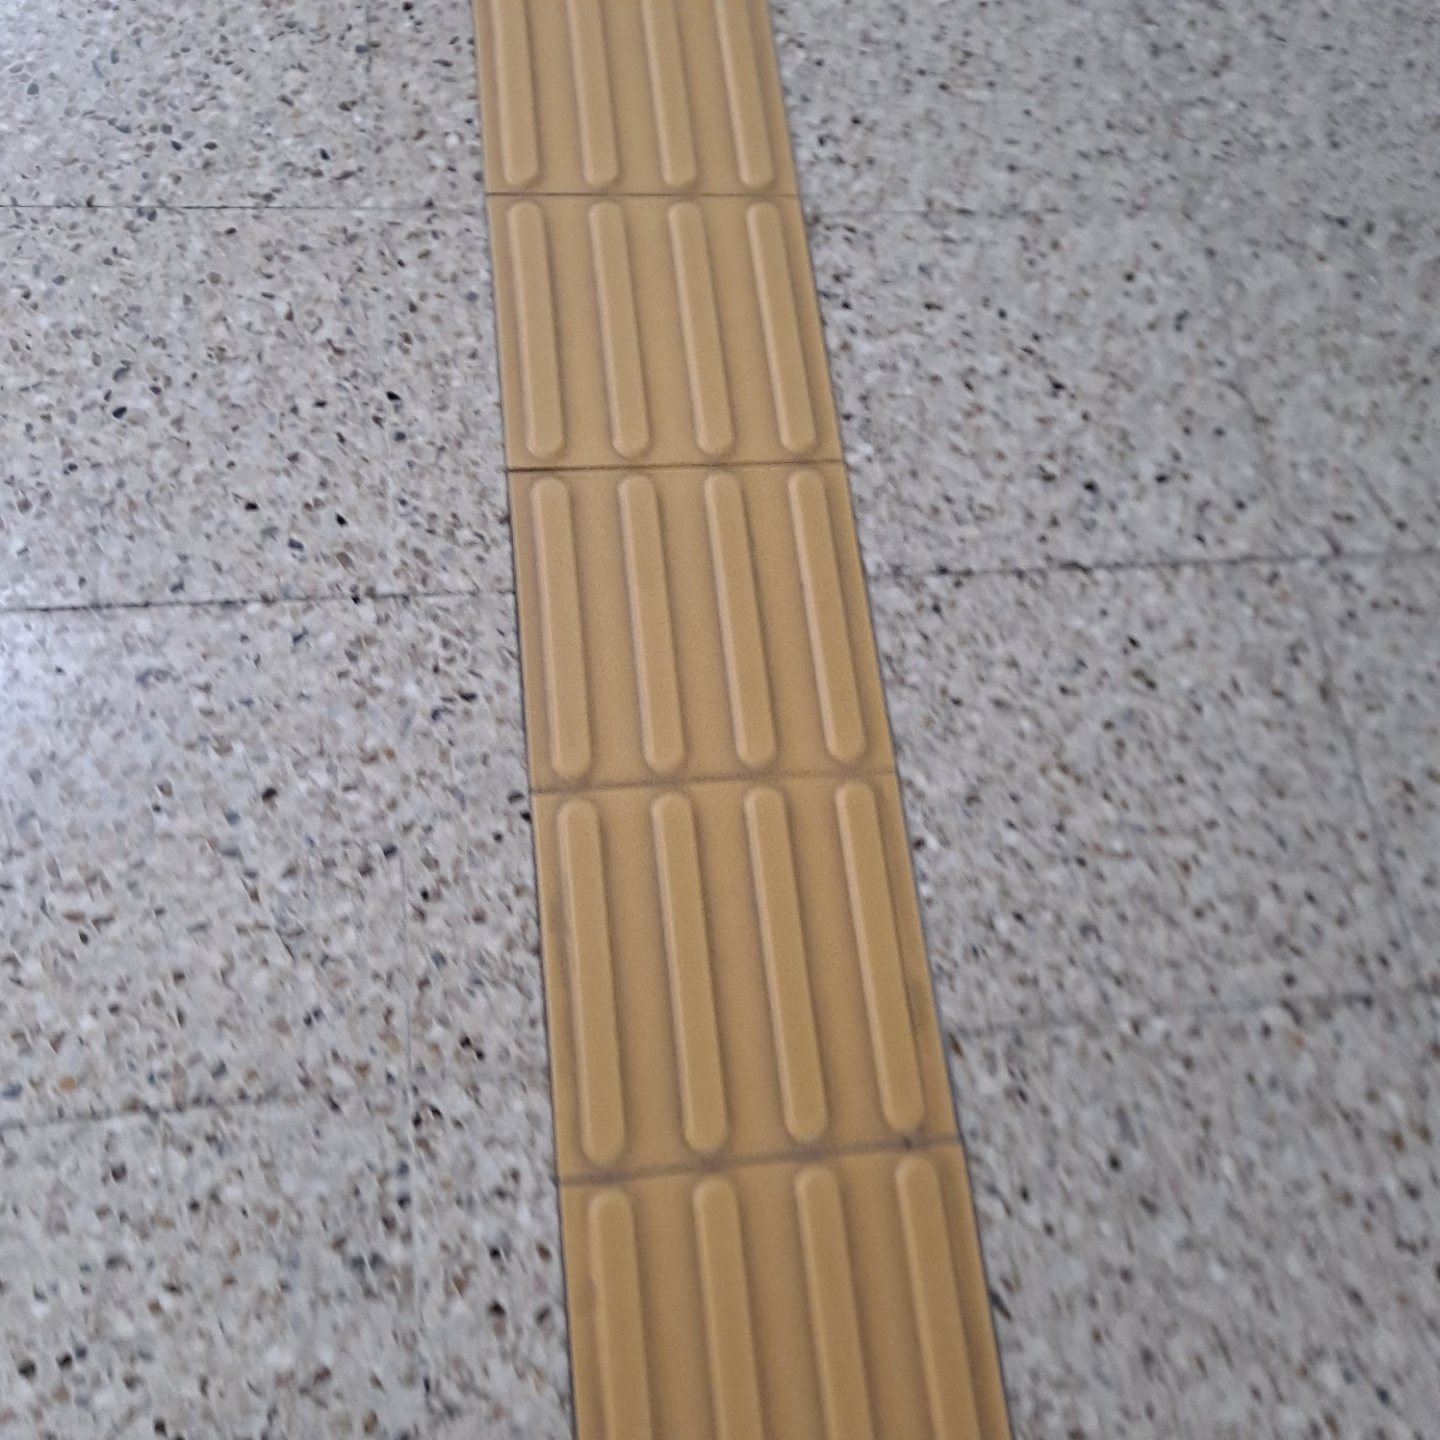guideBlock: (531, 803, 957, 1156), (574, 1172, 1021, 1440), (500, 189, 852, 512), (514, 476, 872, 781), (469, 9, 781, 210)
